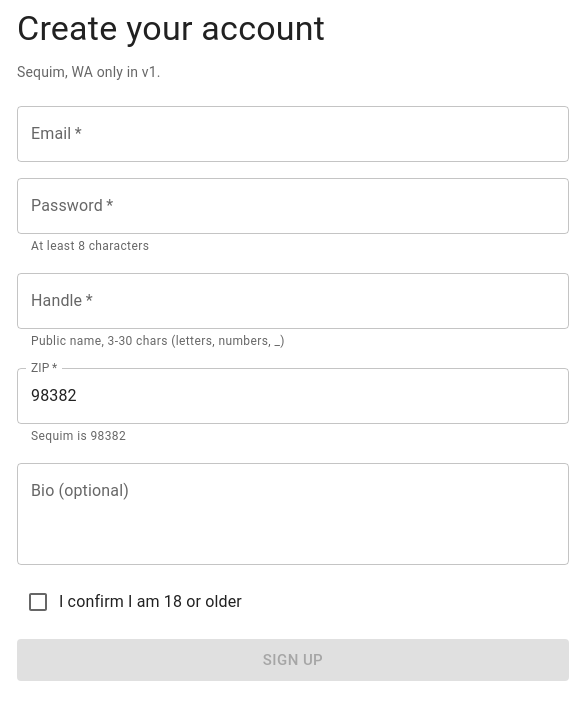
it: SignupPage › disables submit button until form is valid
The image size is (587, 701).
Expected: the button "Sign up" is disabled, 17,639 -> 569,681
Type "alice@example.com" into the field labelled "Email *" at (293, 134), box 17,106 -> 569,162
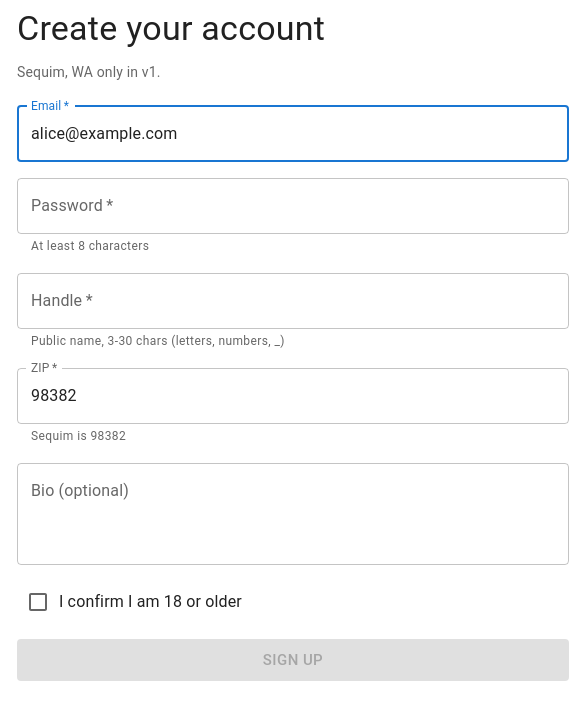
Type "correct-horse" into the password field labelled "Password *" at (293, 206), box 17,178 -> 569,234
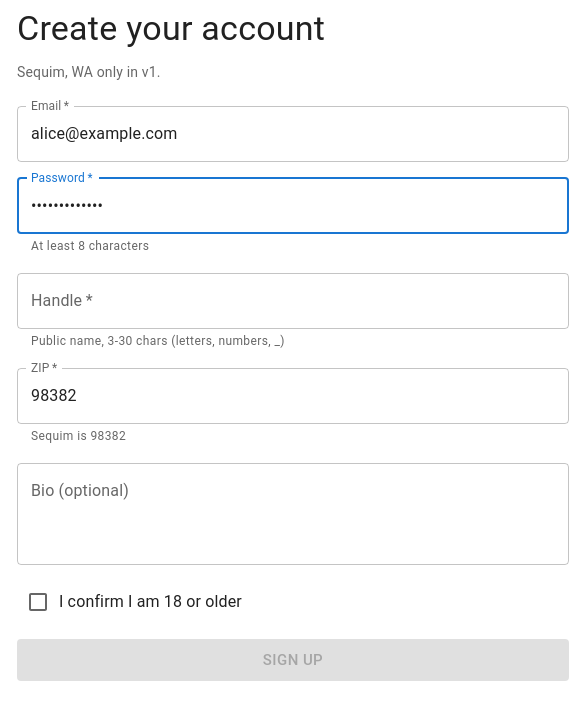
Type "alice" into the field labelled "Handle *" at (293, 301), box 17,273 -> 569,329
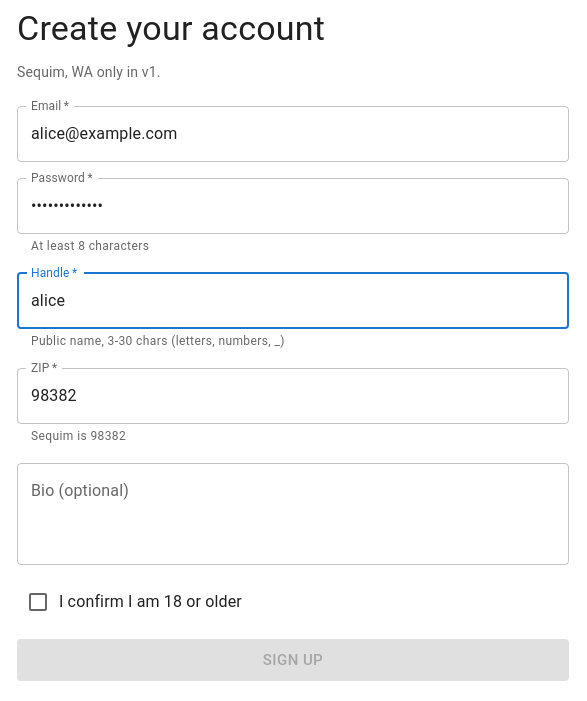
Click the checkbox labelled "I confirm I am 18 or older" at (134, 602), box 26,590 -> 242,614
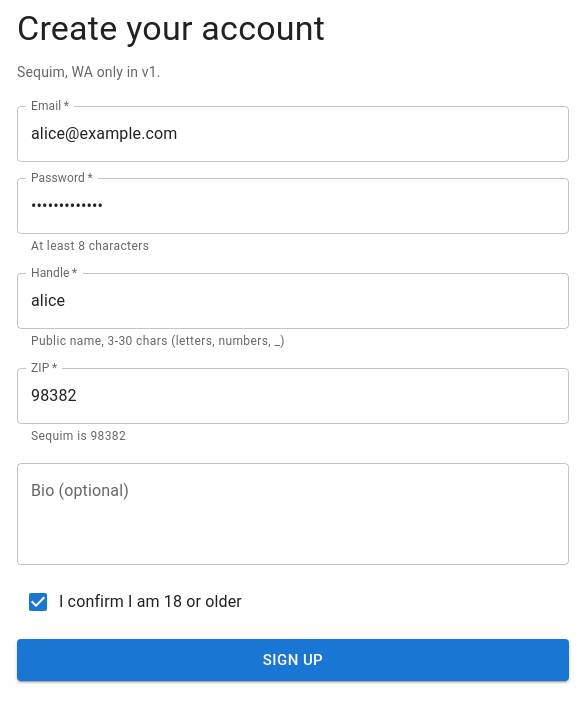
Now the button "Sign up" is enabled, box 17,639 -> 569,681
